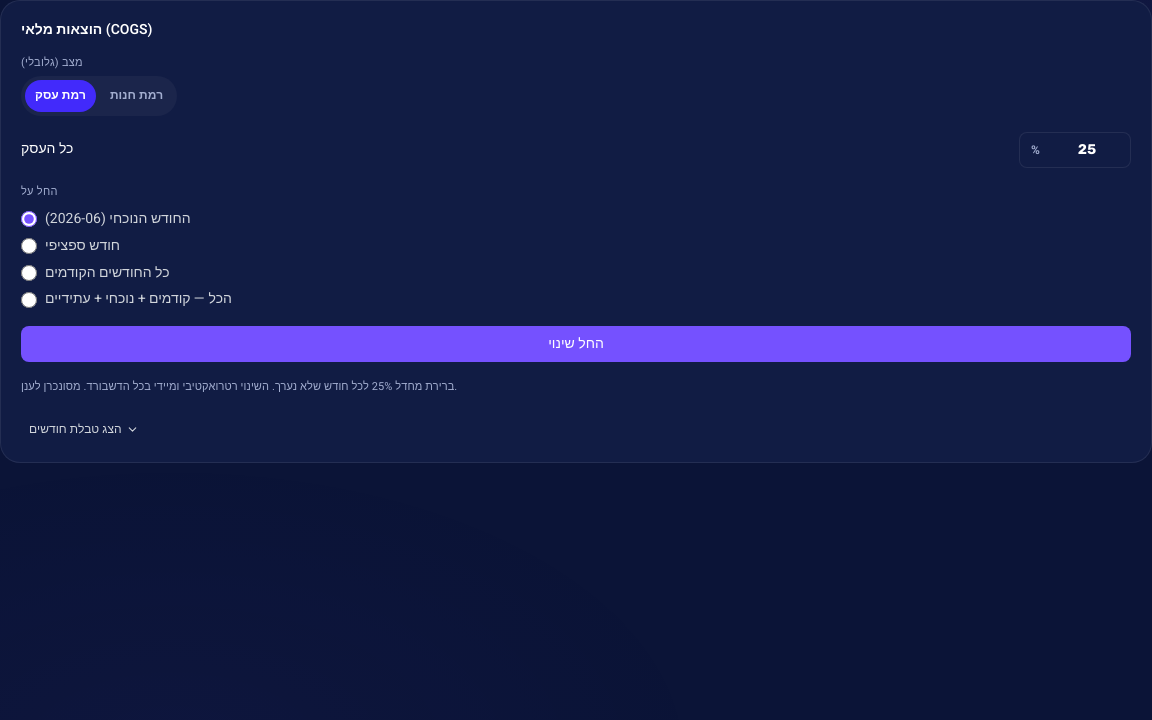
Test: CogsSettings — Apply validation (FIX #27) › business mode: a non-numeric field + Apply aborts the write
Replace the text in the field with test id "cogs-business-input" with "abc" at x=1075, y=150, box [1019,132,1131,168]
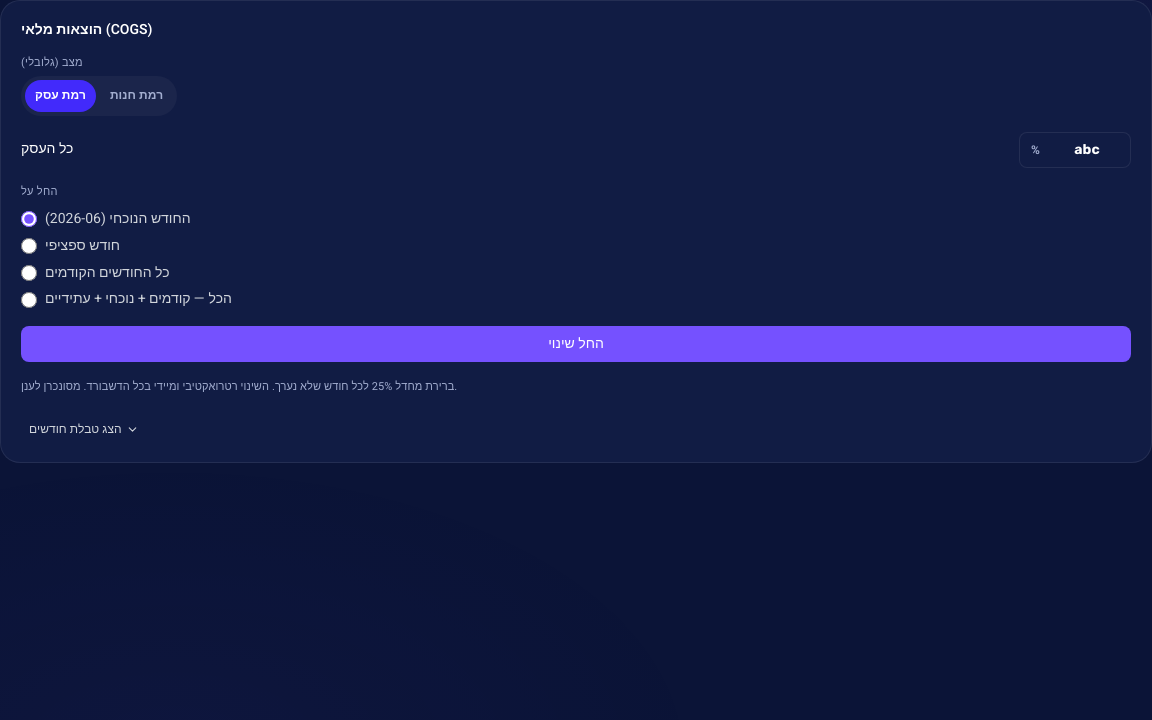
Click the button with test id "cogs-apply" at x=576, y=344, box [21,326,1131,362]
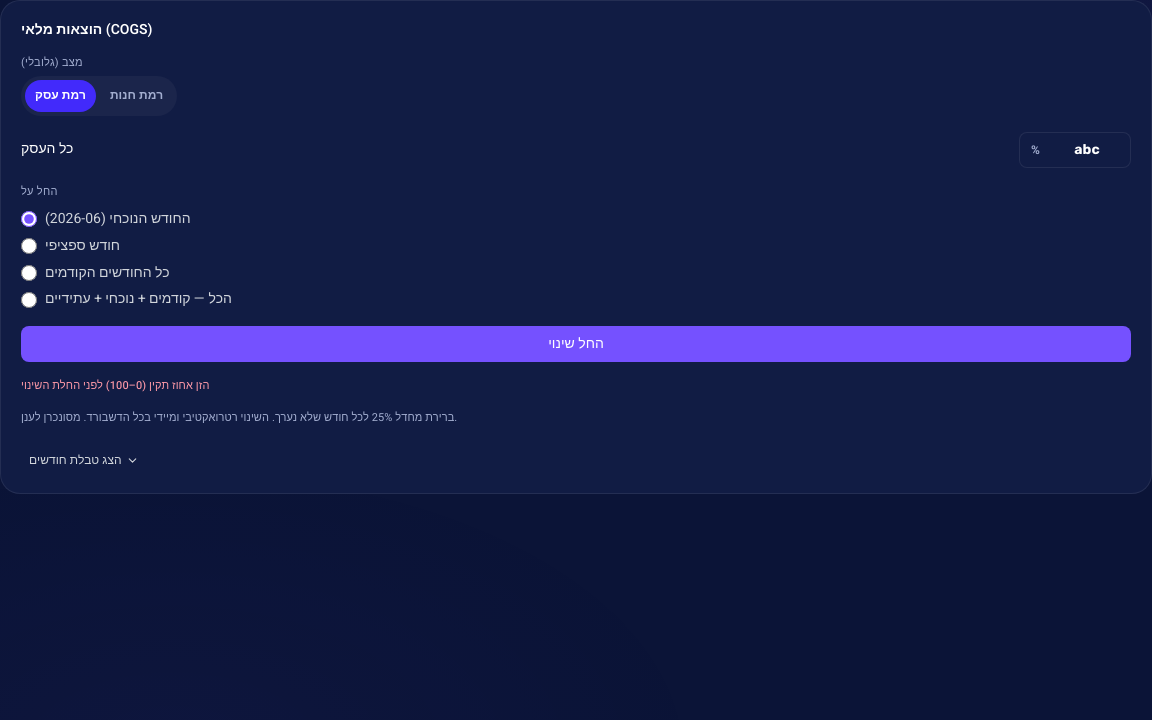
Check: the message "הזן אחוז תקין (0–100) לפני החלת השינוי" is shown, box [21,377,210,394]
